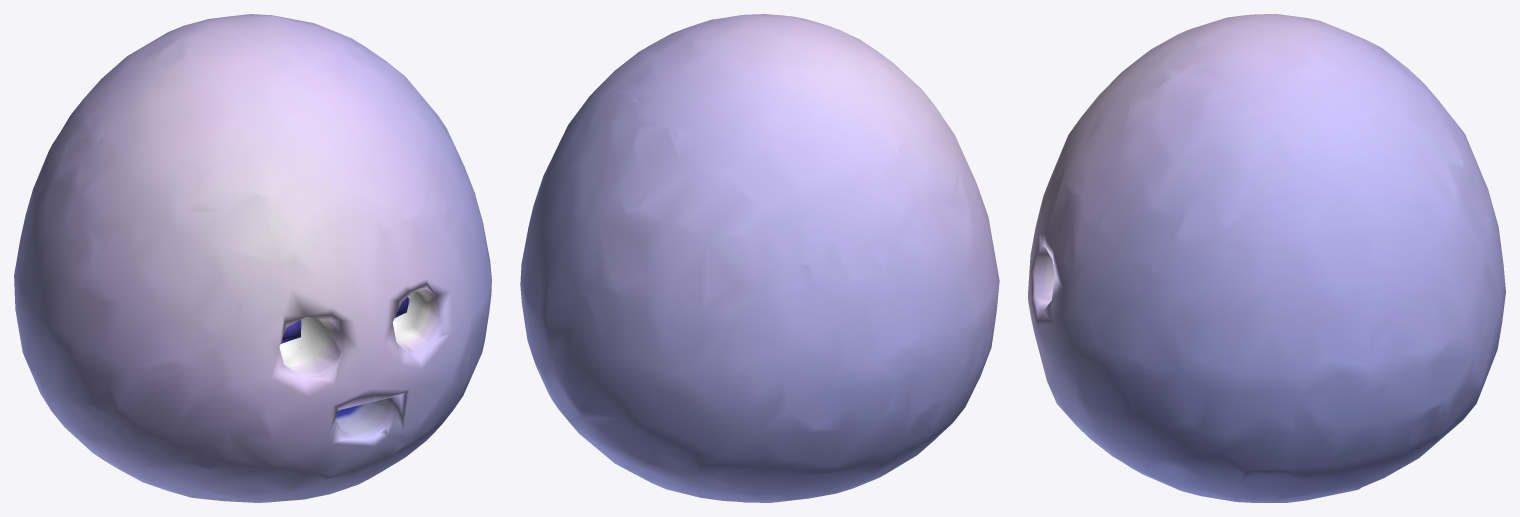
File: pearla_3d.glb
3 views of the same model, side by side, from view 1: azimuth 30°, elevation 25°; view 2: azimuth 150°, elevation 25°; view 3: azimuth 270°, elevation 25° (orthographic).
Visible parts, largest first — view 1: tripo_node_f1ae3a12-37fa-4cee-a7fc-8c29d18e809b; view 2: tripo_node_f1ae3a12-37fa-4cee-a7fc-8c29d18e809b; view 3: tripo_node_f1ae3a12-37fa-4cee-a7fc-8c29d18e809b.
Part boxes in pixels (x1,y1,x2,y2): tripo_node_f1ae3a12-37fa-4cee-a7fc-8c29d18e809b: [14, 14, 491, 502]; tripo_node_f1ae3a12-37fa-4cee-a7fc-8c29d18e809b: [520, 14, 999, 502]; tripo_node_f1ae3a12-37fa-4cee-a7fc-8c29d18e809b: [1028, 14, 1505, 502].
Size of the model in its own units: 0.9821 by 1 by 0.9819.
Materials: 1 (1 with a texture image).
